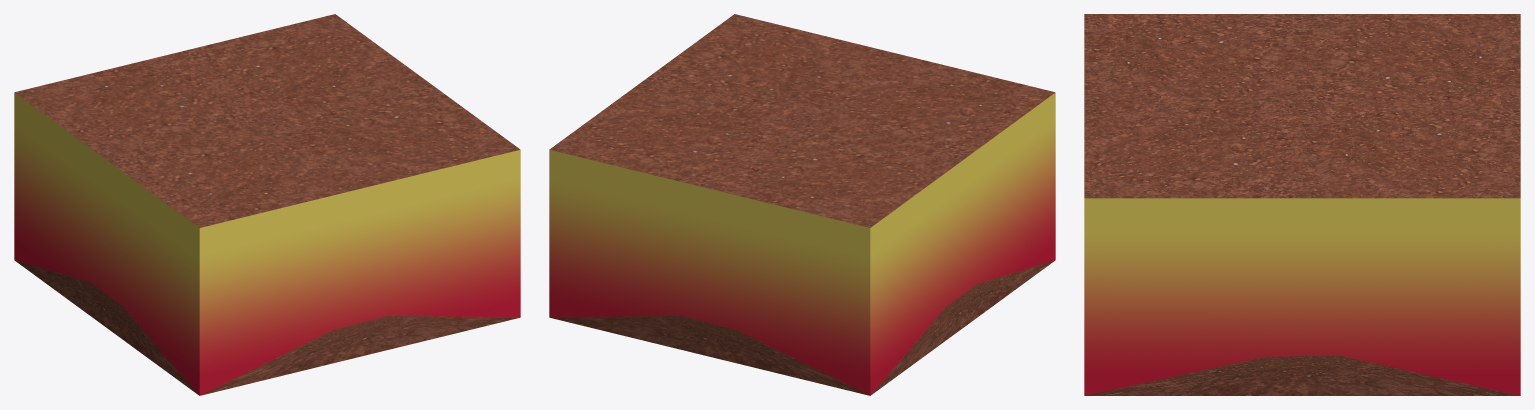
The model's file is sp haike.fbx.
3 renders of one model, left to right at view 1: azimuth 30°, elevation 25°; view 2: azimuth 150°, elevation 25°; view 3: azimuth 270°, elevation 25°, orthographic. The views are drawn at different scales.
Parts seen in each view (by area): view 1: pCube1; view 2: pCube1; view 3: pCube1.
Part boxes in pixels (left/top/right/bottom): pCube1: left=14, top=14, right=520, bottom=395; pCube1: left=549, top=14, right=1055, bottom=395; pCube1: left=1084, top=14, right=1520, bottom=395.
Size of the model in its own units: 600 by 300 by 600.
